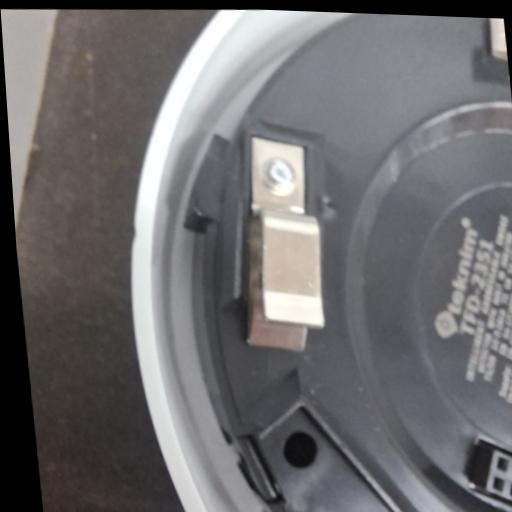yayli: (226, 129, 333, 346)
